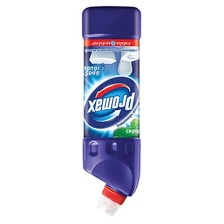cleaning_solution: (79, 4, 145, 222)
